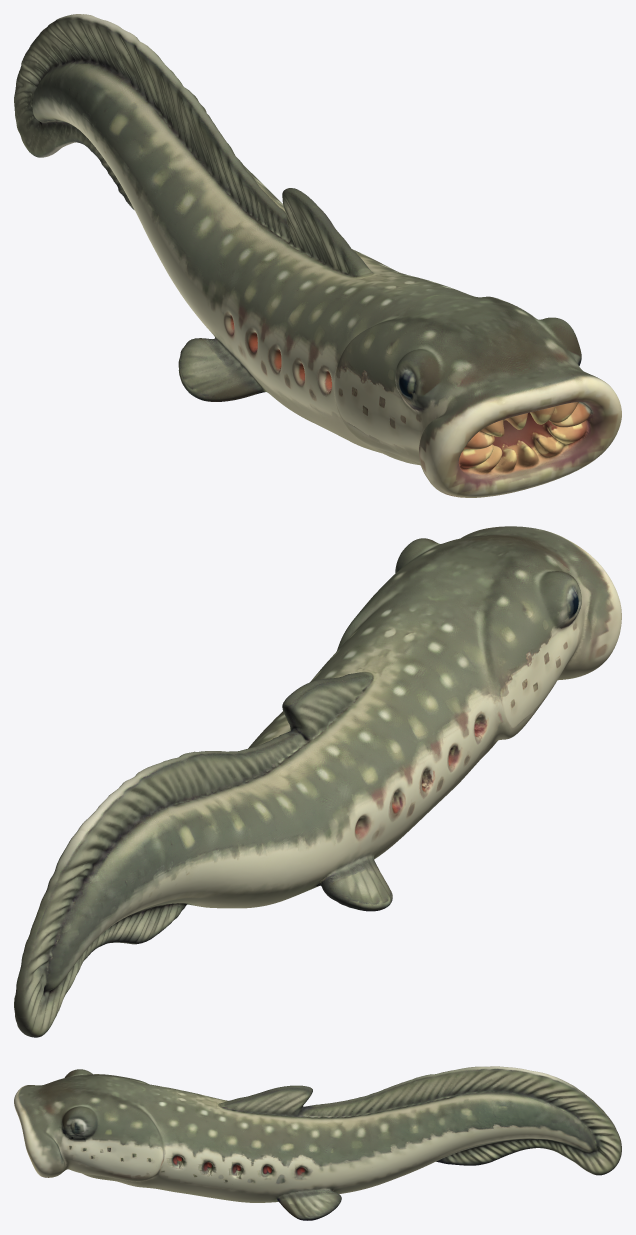
File: Lamproie.fbx
3 views of the same model, one above another, from view 1: azimuth 30°, elevation 25°; view 2: azimuth 150°, elevation 25°; view 3: azimuth 270°, elevation 25° (orthographic). The views are drawn at different scales.
Parts seen in each view (by area): view 1: Mesh_0; view 2: Mesh_0; view 3: Mesh_0.
Boxes of the visible parts, box(x1,y1,x2,y2) form: Mesh_0: box(14, 14, 621, 497); Mesh_0: box(14, 526, 621, 1037); Mesh_0: box(14, 1066, 621, 1220).
Bounding box in the file's own units: 41.45 × 44.58 × 190.
Materials: 1 (1 with a texture image).
